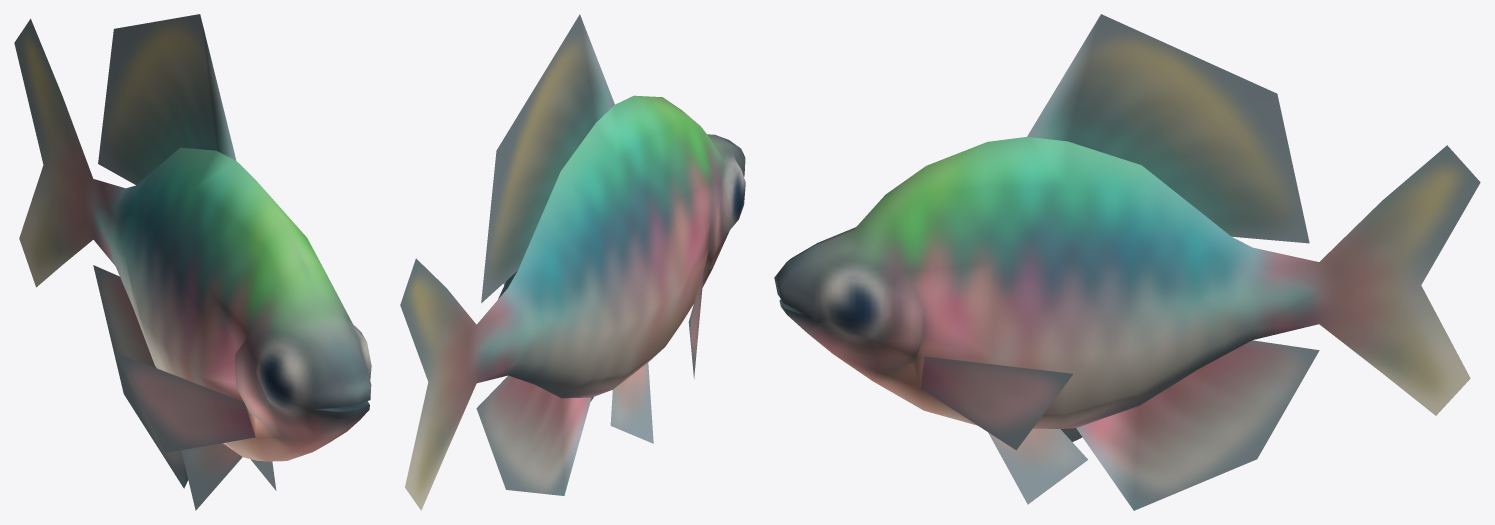
Rendered from bitterling.glb.
The picture shows the model from 3 angles, left to right: view 1: azimuth 30°, elevation 25°; view 2: azimuth 150°, elevation 25°; view 3: azimuth 270°, elevation 25°; orthographic projection. The views are drawn at different scales.
Parts seen in each view (by area): view 1: FishTanago__mTanago; view 2: FishTanago__mTanago; view 3: FishTanago__mTanago.
Part boxes in pixels (x1,y1,x2,y2): FishTanago__mTanago: (14,14,371,510); FishTanago__mTanago: (400,14,745,510); FishTanago__mTanago: (774,14,1480,510).
Size of the model in its own units: 1.03 by 2.43 by 3.13.
1 material, 1 textured.
